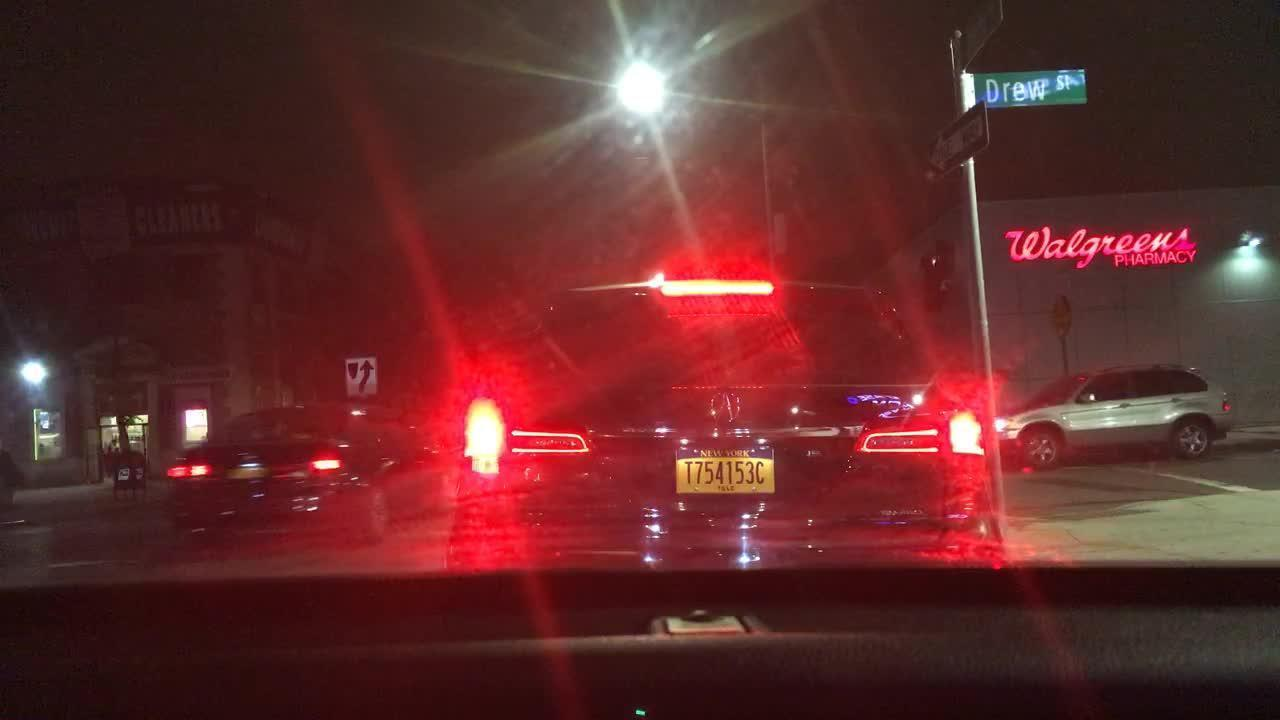acura: (704, 390, 748, 430)
